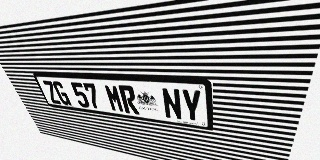5: (70, 82, 91, 108)
7: (82, 83, 103, 110)
G: (51, 81, 72, 106)
M: (103, 84, 125, 113)
N: (161, 87, 183, 120)
R: (118, 85, 140, 115)
Y: (180, 89, 202, 123)
Z: (42, 80, 62, 104)
